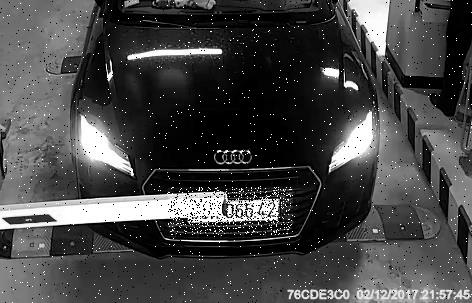License-plate: (169, 188, 294, 236)
